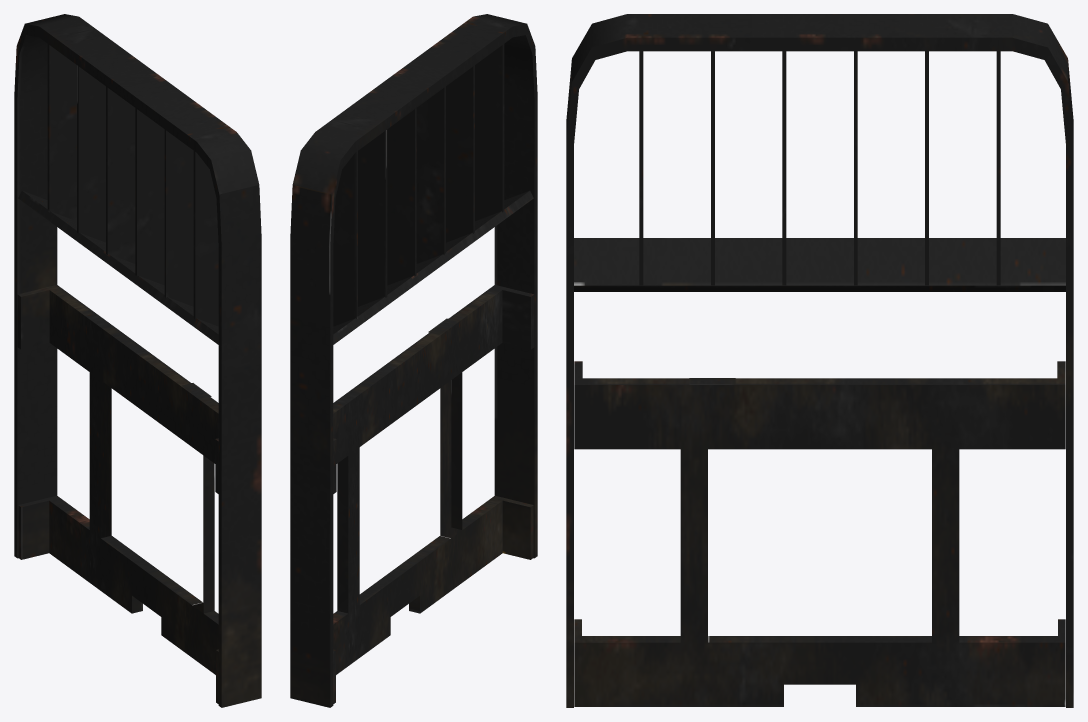
File: fork_plate_correct_scale.dae
3 renders of one model, left to right at view 1: azimuth 30°, elevation 25°; view 2: azimuth 150°, elevation 25°; view 3: azimuth 270°, elevation 25°, orthographic. The views are drawn at different scales.
Parts seen in each view (by area): view 1: Loader_car_Loader_car_Material_0.004; view 2: Loader_car_Loader_car_Material_0.004; view 3: Loader_car_Loader_car_Material_0.004.
Part boxes in pixels (box(x1,y1,x2,y2)): Loader_car_Loader_car_Material_0.004: box(14, 14, 261, 707); Loader_car_Loader_car_Material_0.004: box(290, 14, 537, 707); Loader_car_Loader_car_Material_0.004: box(566, 14, 1073, 707).
Bounding box in the file's own units: 0.1 × 0.885 × 1.29.
Materials: 1 (1 with a texture image).
